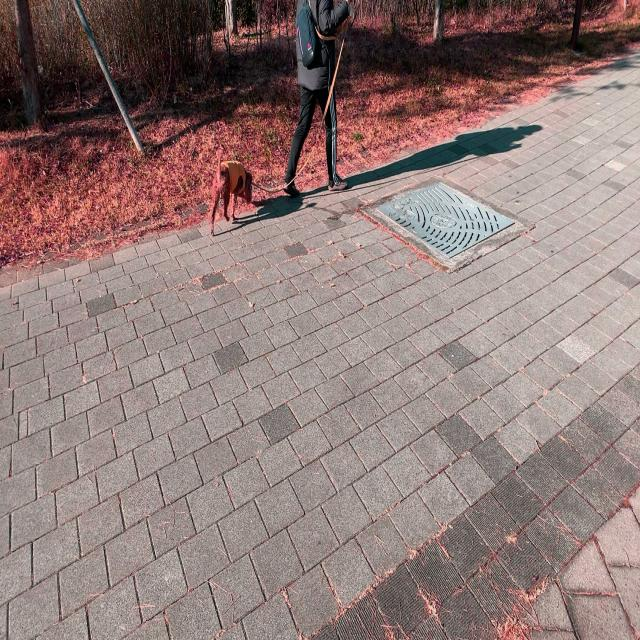Leashed_Dog: (209, 76, 335, 236)
